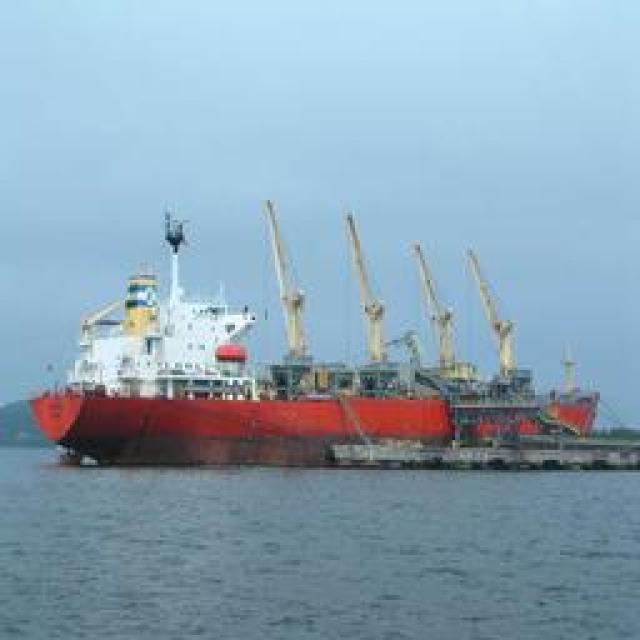CIV_Ship: (31, 192, 589, 462)
